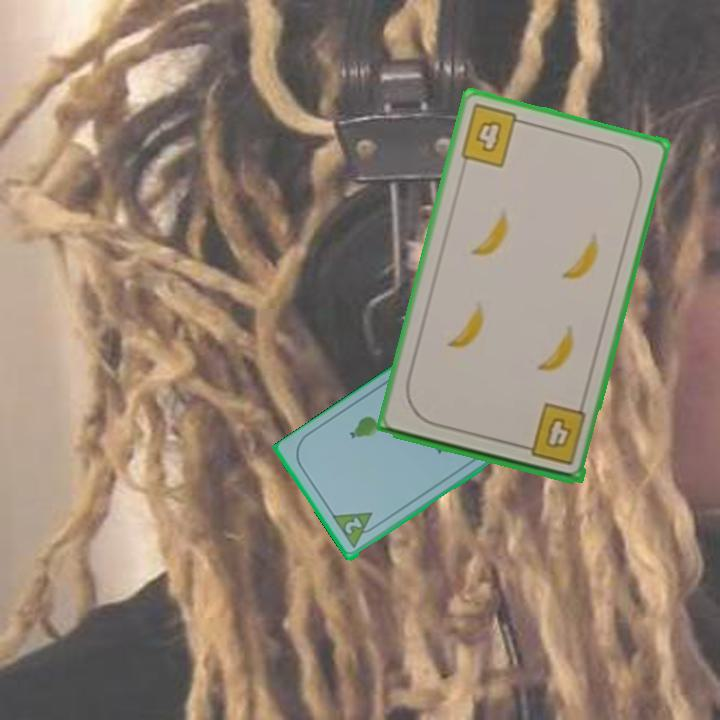2p: (329, 508, 382, 552)
4b: (456, 100, 531, 170), (515, 399, 589, 468)
